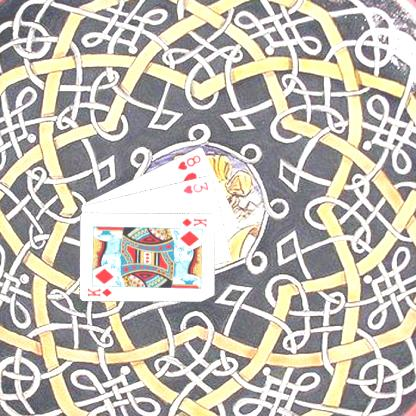3H: (180, 179, 210, 195)
8H: (175, 152, 202, 171)
KD: (179, 215, 208, 228), (85, 285, 113, 298)
